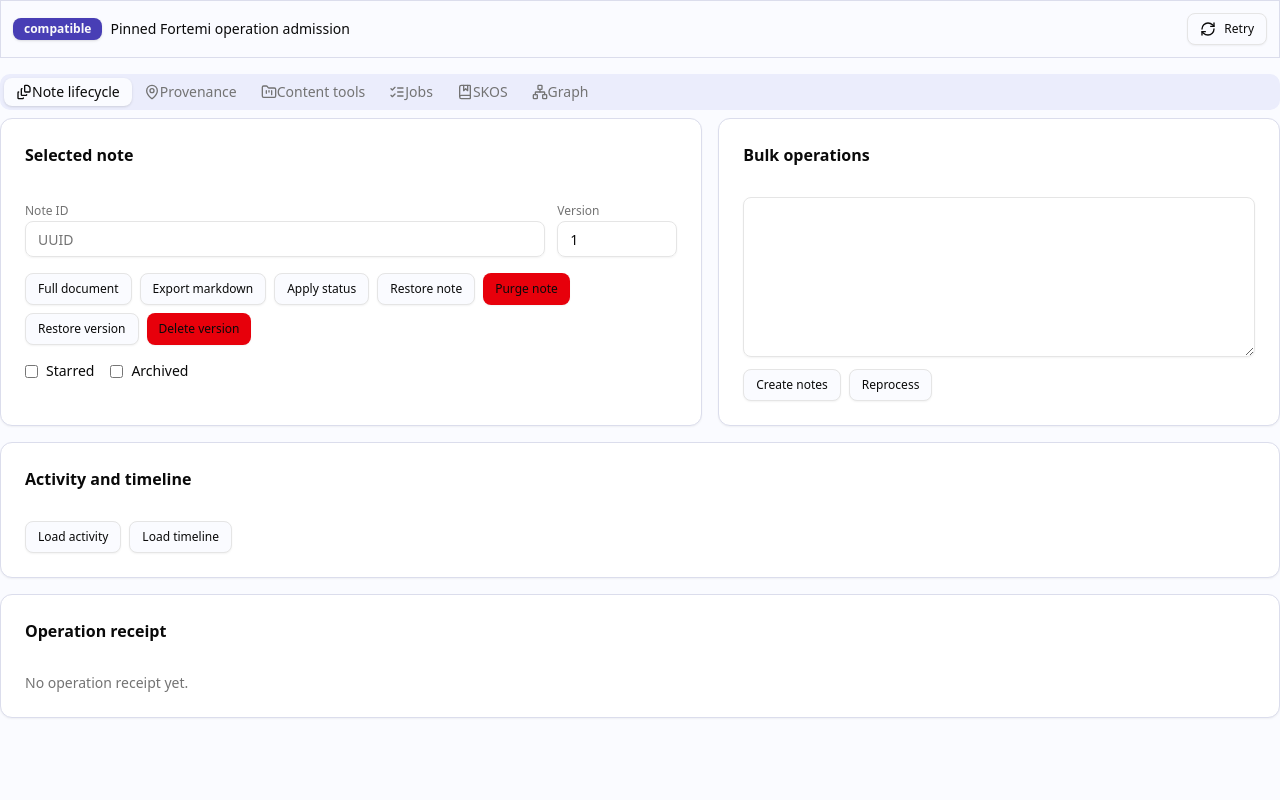
Scenario: CoreContentLifecyclePanel › confirms Restore version and records an auditable Restore version receipt
The width and height of the screenshot is (1280, 800).
Type "note-1" into the field labelled "Note ID" at point(285, 239), box [25,221,545,257]
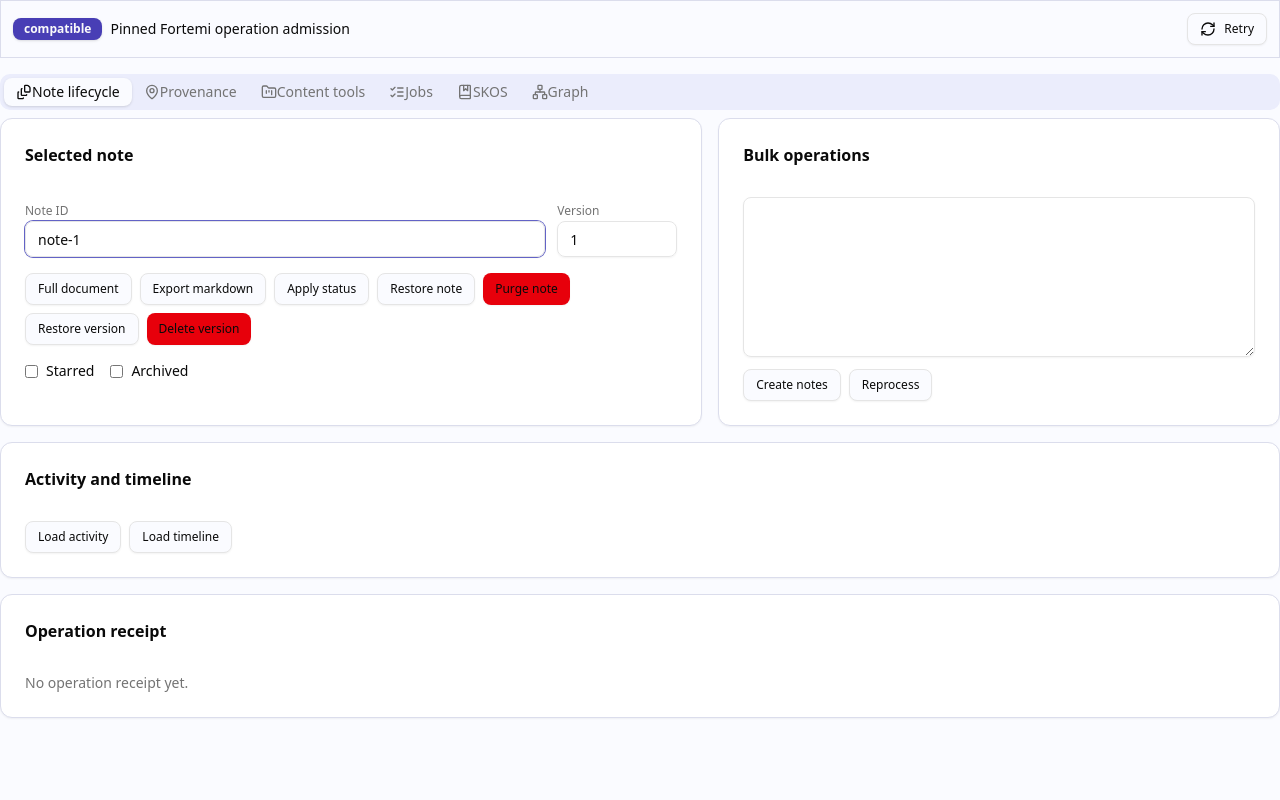
Replace the text in the number field labelled "Version" with "2" at point(617, 239), box [557,221,677,257]
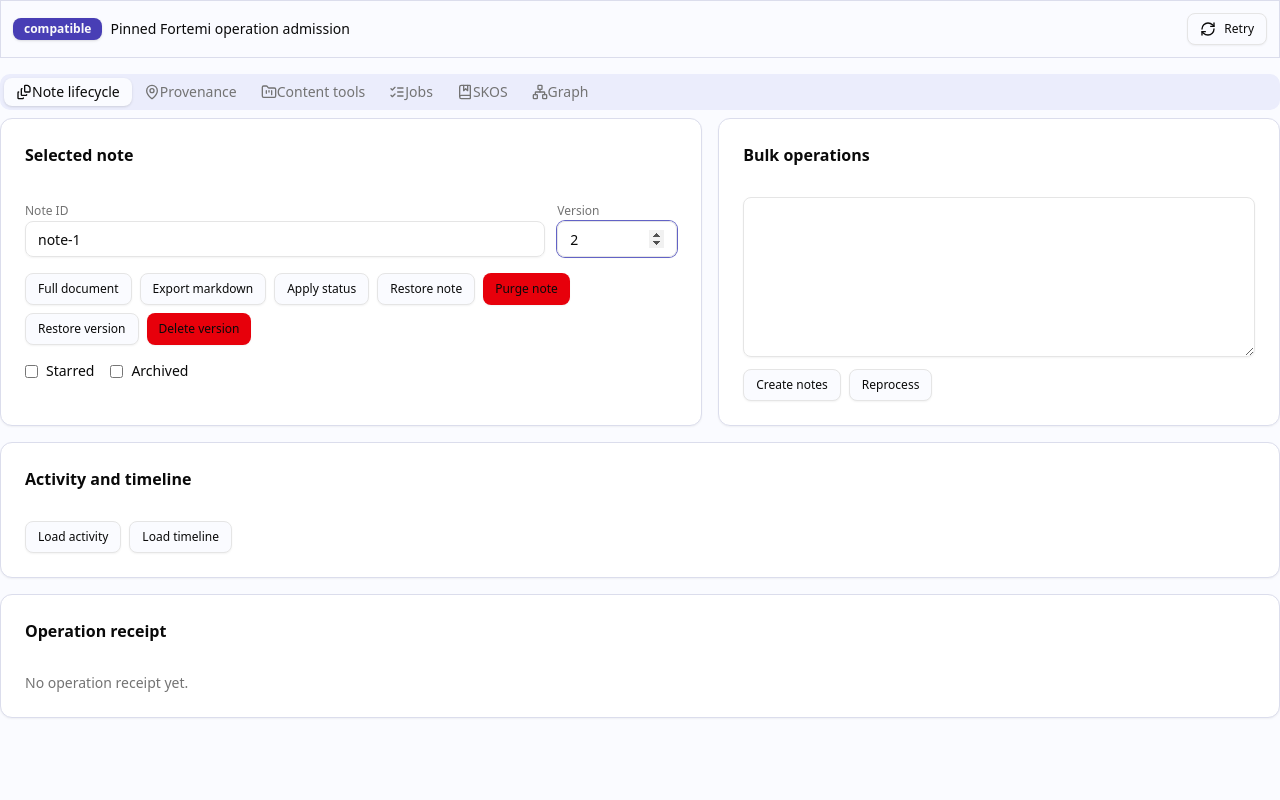
Click the button "Restore version" at point(82, 329), box [25,313,138,345]
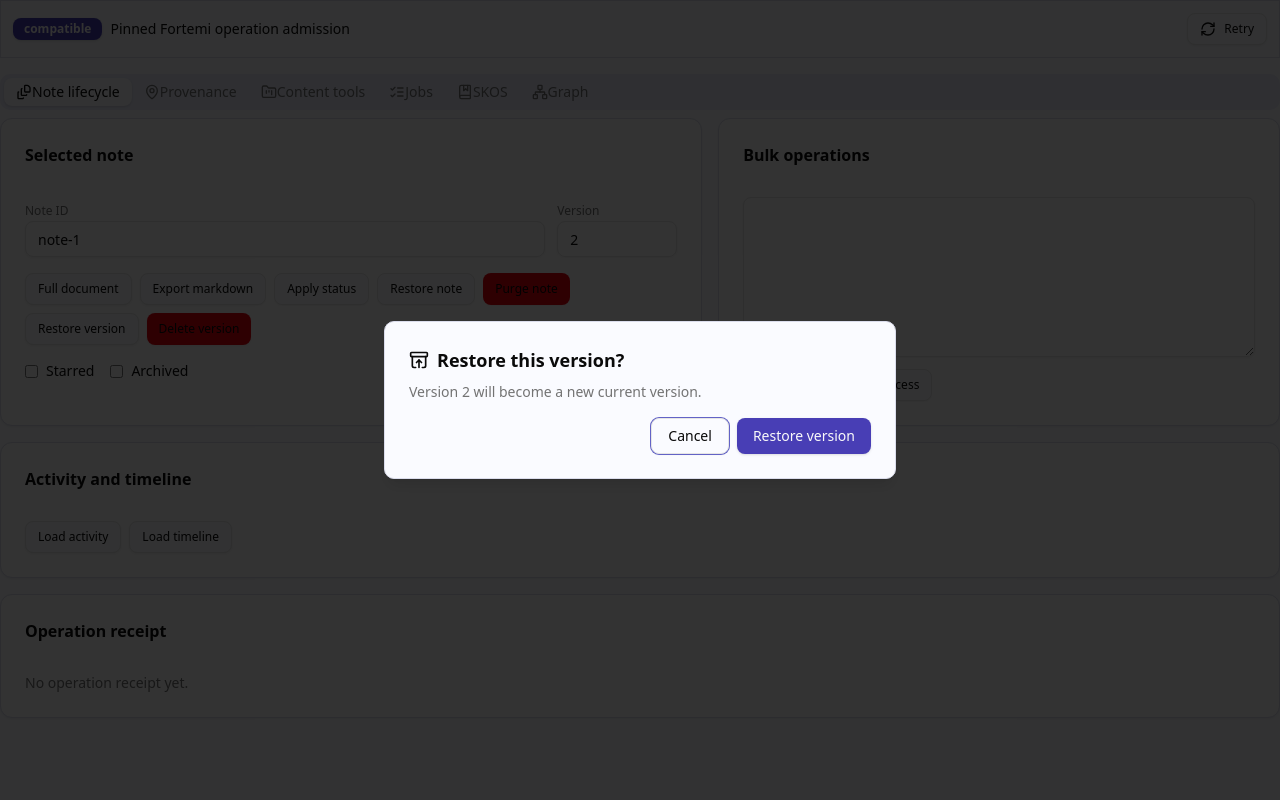
Expected: the text "Restored version 2 as version 3; tags=true." is not shown
Result: the dialog is shown at [384,321,896,479]
Click the button "Restore version" at point(804, 436), box [737,418,871,454]
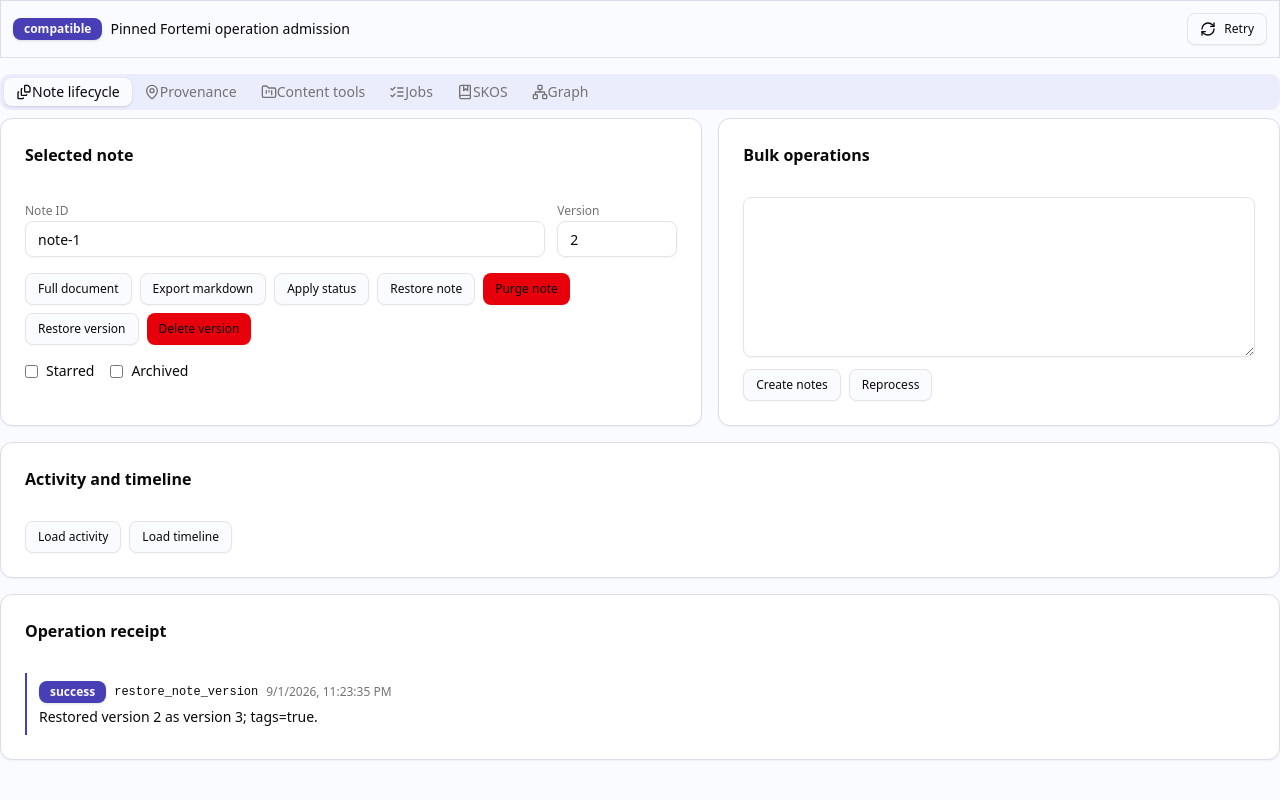
Result: the text "restore_note_version" is shown at [114,684,258,700]
Result: the text "Restored version 2 as version 3; tags=true." is shown at [39,707,318,726]
